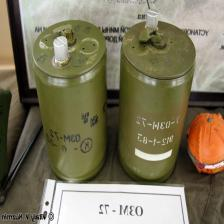OZM-72: (32, 18, 108, 182), (120, 12, 190, 178)
